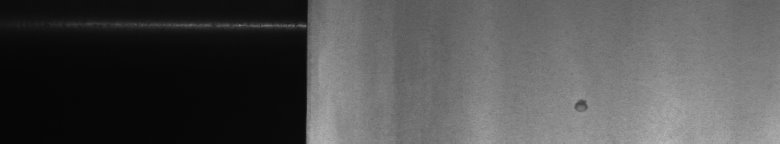fi: (569, 92, 591, 117)
